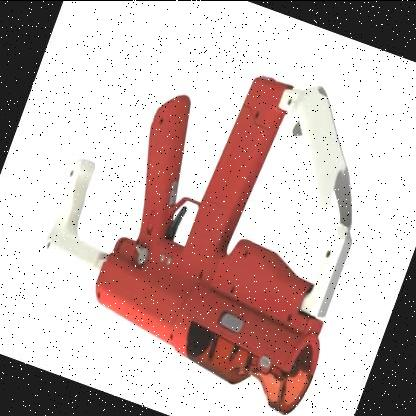rifle: (0, 26, 408, 416)
